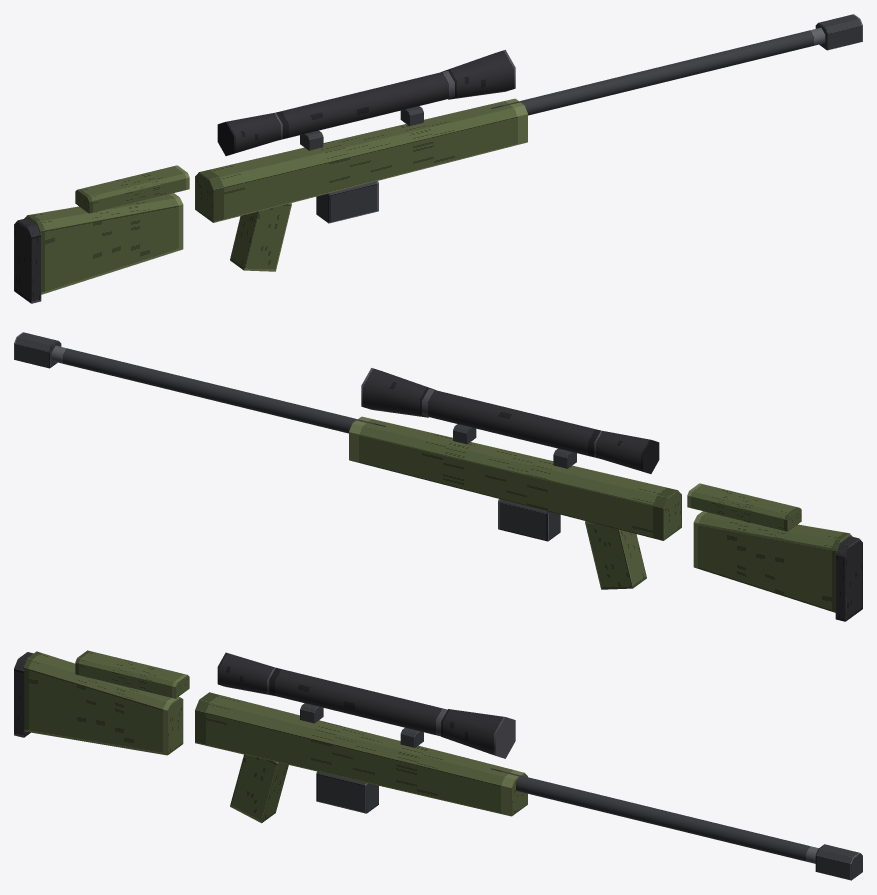
Rendered from AWP.glb.
The picture shows the model from 3 angles, top to bottom: view 1: azimuth 30°, elevation 25°; view 2: azimuth 150°, elevation 25°; view 3: azimuth 330°, elevation 25°; orthographic projection.
Visible parts, largest first — view 1: AWP; view 2: AWP; view 3: AWP.
Part boxes in pixels (bbox=[...]): AWP: bbox=[14, 14, 862, 303]; AWP: bbox=[14, 332, 862, 621]; AWP: bbox=[14, 650, 862, 880].
Bounding box in the file's own units: 1.16 × 0.2118 × 0.0485.
Materials: 1 (1 with a texture image).
